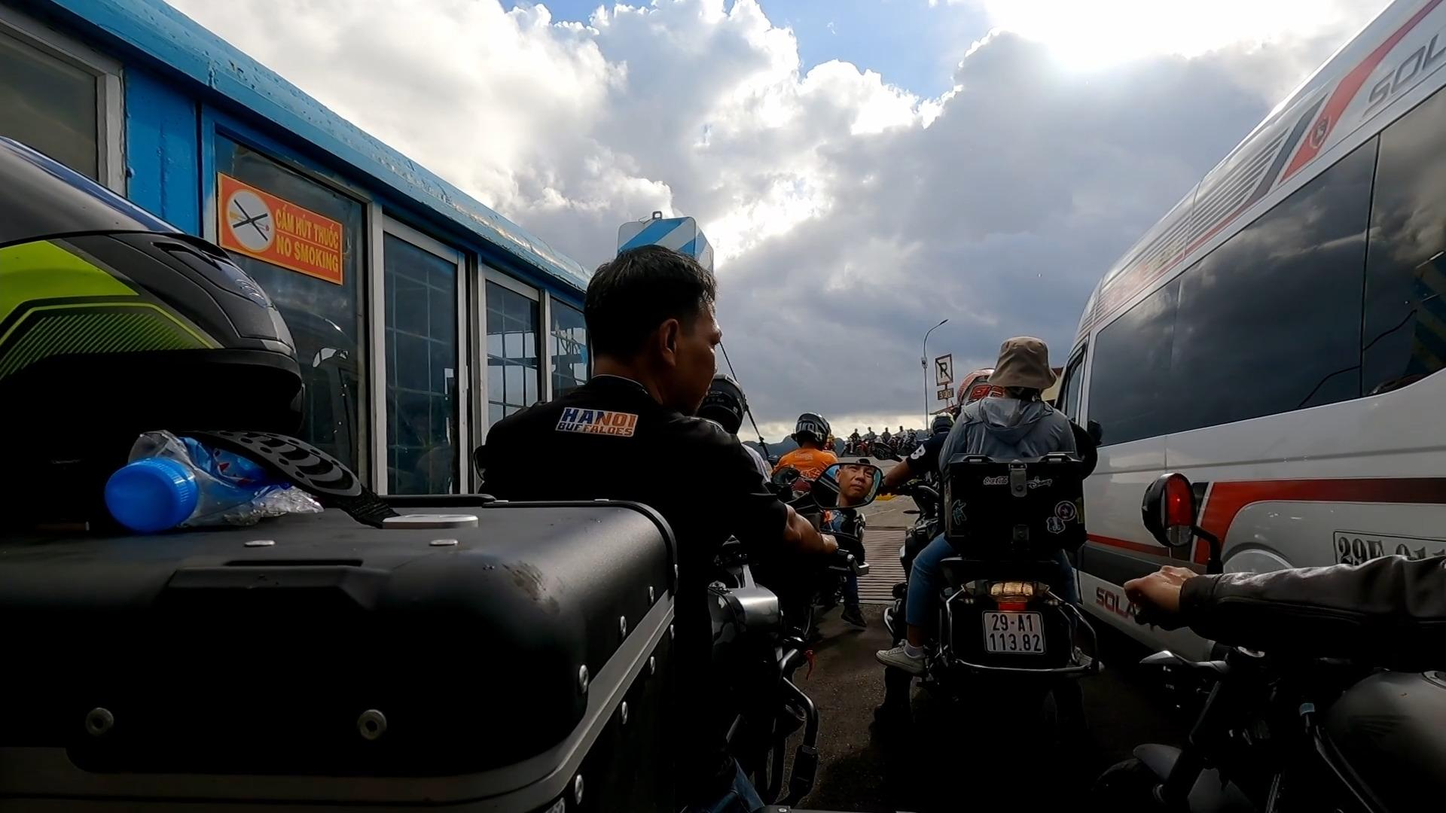driver: (2, 132, 883, 813), (870, 333, 1108, 813)
helmet: (695, 373, 749, 435), (956, 367, 1005, 413), (796, 412, 831, 452), (929, 412, 956, 436)
no-helmet: (587, 243, 722, 417), (987, 336, 1058, 401)
